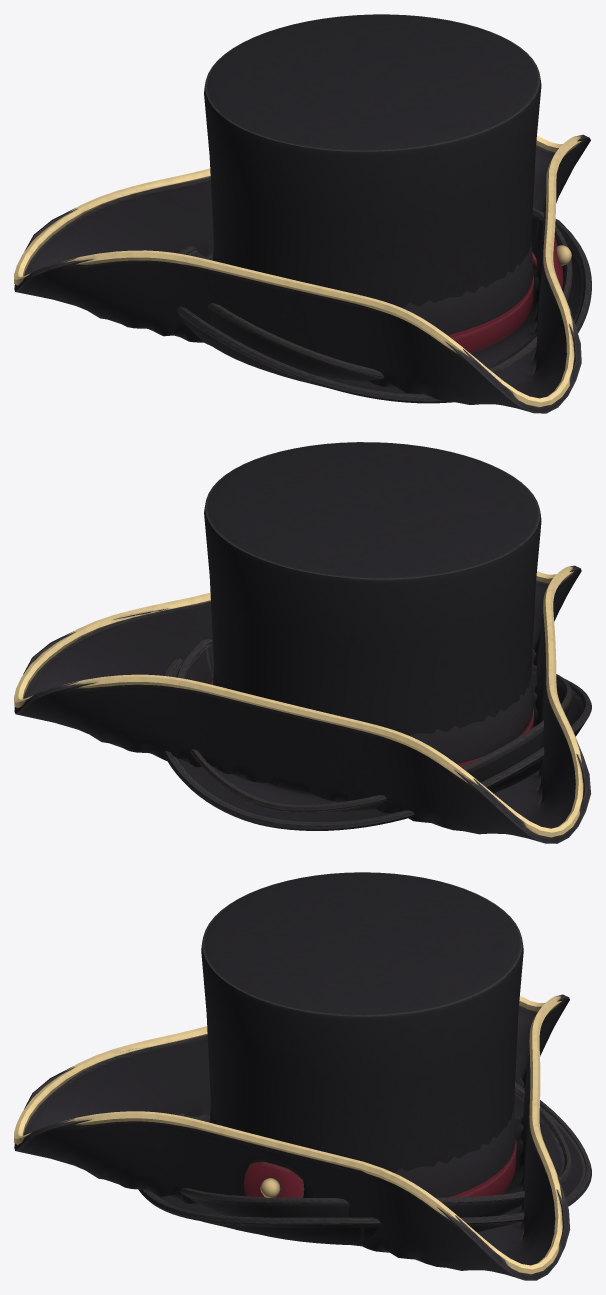
File: NHAcc_Hats.fbx
3 renders of one model, top to bottom at view 1: azimuth 30°, elevation 25°; view 2: azimuth 150°, elevation 25°; view 3: azimuth 270°, elevation 25°, orthographic.
Parts seen in each view (by area): view 1: TopHat, Tricorn, Bowler; view 2: TopHat, Tricorn, Bowler; view 3: TopHat, Tricorn, Bowler.
Boxes of the visible parts, x1=… form: TopHat: x1=176, y1=14, x2=591, y2=403; Tricorn: x1=14, y1=134, x2=590, y2=413; Bowler: x1=179, y1=207, x2=572, y2=381; TopHat: x1=162, y1=442, x2=591, y2=830; Tricorn: x1=14, y1=565, x2=591, y2=843; Bowler: x1=176, y1=639, x2=572, y2=812; TopHat: x1=138, y1=872, x2=591, y2=1245; Tricorn: x1=14, y1=994, x2=570, y2=1280; Bowler: x1=178, y1=1084, x2=571, y2=1217.
Size of the model in its own units: 2.83 by 1.13 by 2.51.
